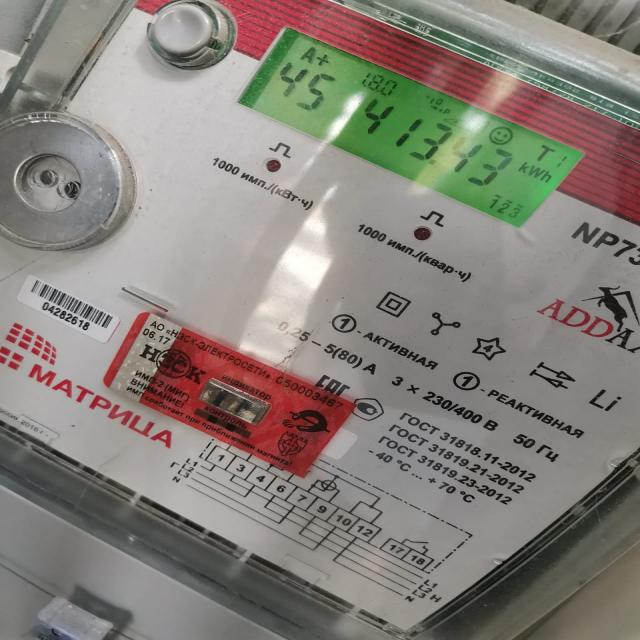Display: (239, 23, 587, 229)
meter_matrica: (0, 0, 639, 634)
meter_number: (16, 276, 121, 346)
seal_imp: (100, 312, 360, 481)
